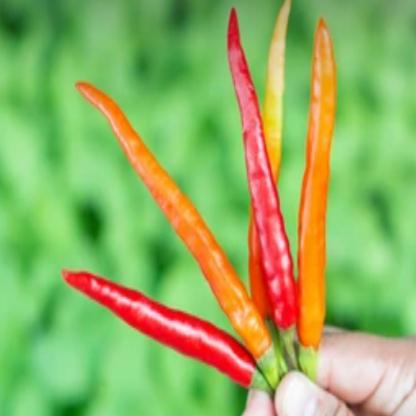chilli: (225, 17, 294, 327)
